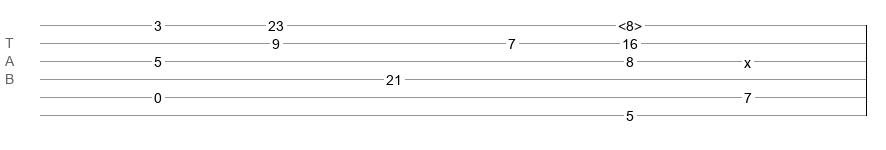0: (154, 90, 162, 100)
16: (622, 36, 638, 46)
21: (386, 72, 402, 82)
23: (268, 18, 284, 28)
3: (154, 18, 162, 28)
5: (154, 54, 162, 64), (626, 108, 634, 118)
7: (508, 36, 516, 46), (744, 90, 752, 100)
8: (626, 54, 634, 64)
9: (272, 36, 280, 46)
harmonic: (618, 18, 642, 28)
x: (744, 55, 751, 63)
